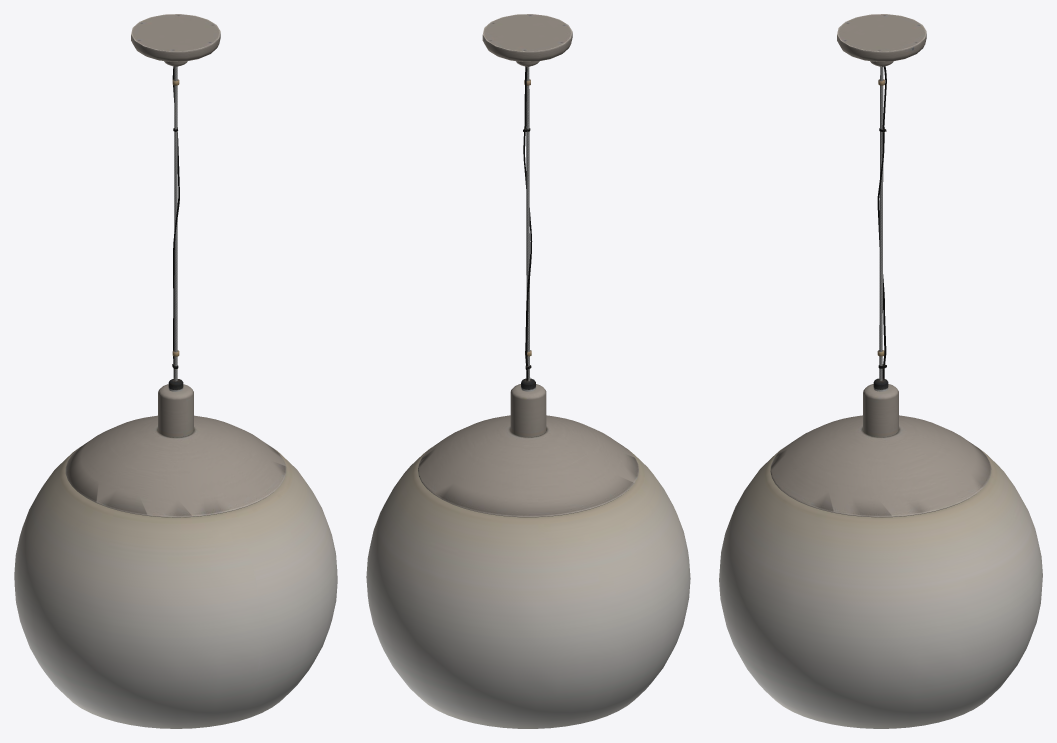
File: modern_ceiling_lamp_01.gltf
The picture shows the model from 3 angles, left to right: view 1: azimuth 30°, elevation 25°; view 2: azimuth 150°, elevation 25°; view 3: azimuth 270°, elevation 25°; orthographic projection.
Visible parts, largest first — view 1: modern_ceiling_lamp_01; view 2: modern_ceiling_lamp_01; view 3: modern_ceiling_lamp_01.
Boxes of the visible parts, <box> form: modern_ceiling_lamp_01: <box>14,14,337,728</box>; modern_ceiling_lamp_01: <box>366,14,690,728</box>; modern_ceiling_lamp_01: <box>719,14,1042,728</box>.
Size of the model in its own units: 0.4317 by 0.9516 by 0.4317.
Materials: 2 (2 with a texture image).
